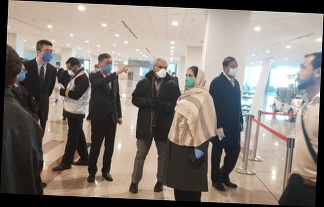with_mask: (40, 46, 54, 63), (15, 66, 27, 85), (101, 58, 114, 73), (155, 64, 168, 79), (184, 72, 196, 87), (227, 62, 239, 77), (65, 65, 77, 77)
without_mask: (295, 60, 313, 90)
